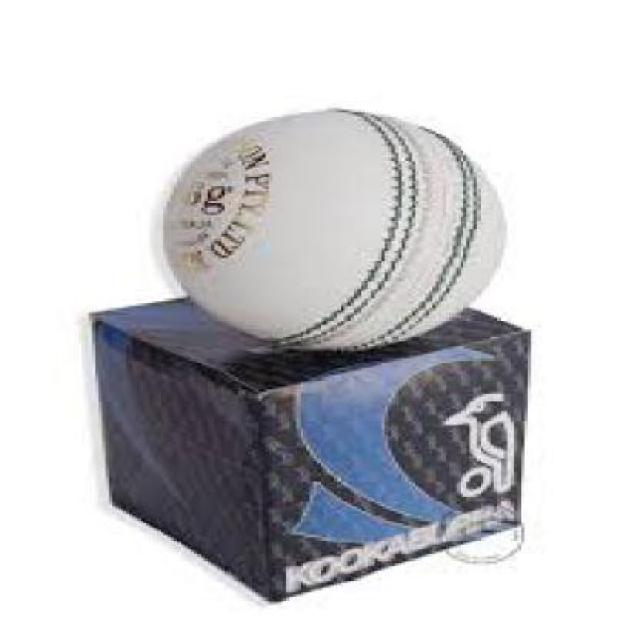ball: (142, 61, 520, 375)
